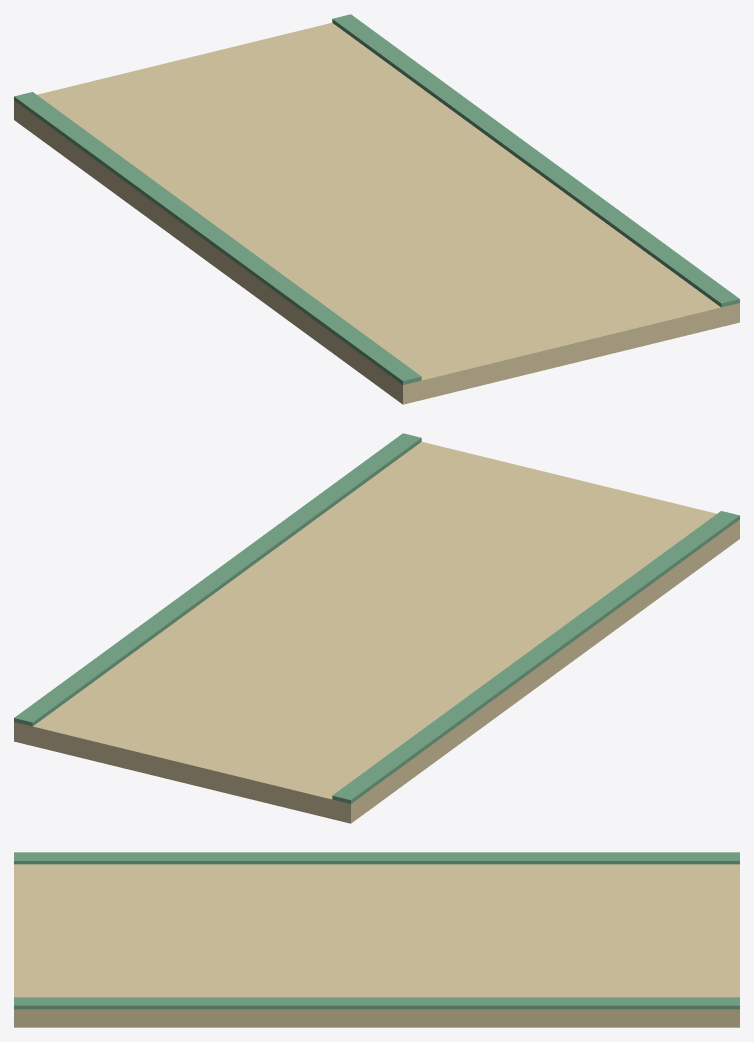
The model's file is feudal-japan-castle-town-tatami-tile-2ac85c2b__26420.glb.
The picture shows the model from 3 angles, top to bottom: view 1: azimuth 30°, elevation 25°; view 2: azimuth 150°, elevation 25°; view 3: azimuth 270°, elevation 25°; orthographic projection. The views are drawn at different scales.
Visible parts, largest first — view 1: tatami-tile; view 2: tatami-tile; view 3: tatami-tile.
Part boxes in pixels (box(x1,y1,x2,y2)): tatami-tile: box(14, 14, 739, 404); tatami-tile: box(14, 433, 739, 823); tatami-tile: box(14, 852, 739, 1027).
Size of the model in its own units: 0.9001 by 0.0601 by 1.8.
